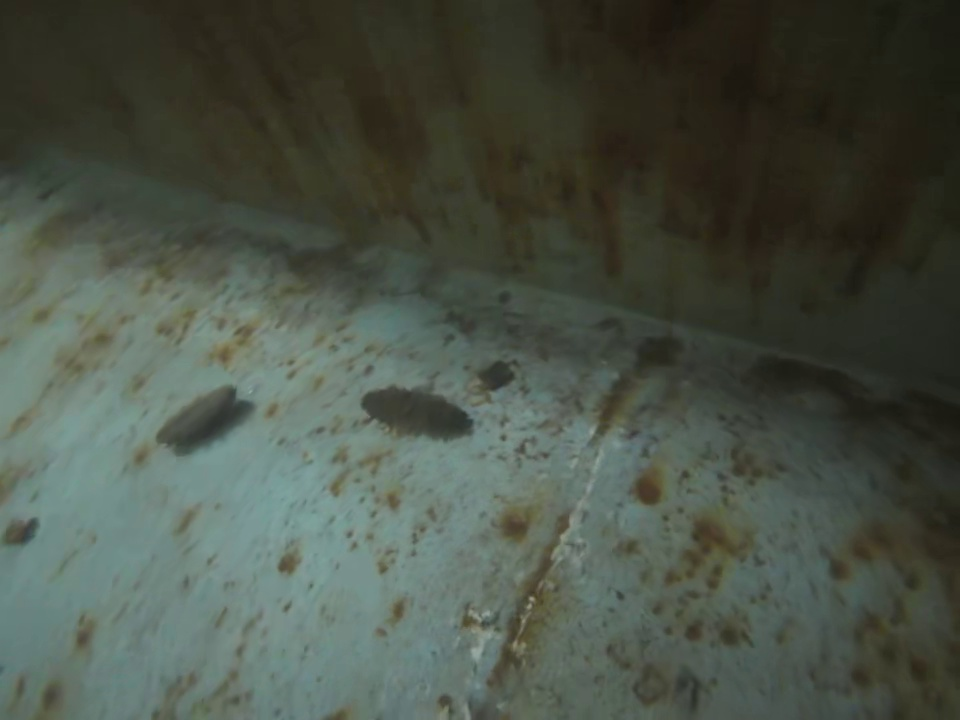seacucumber: (151, 380, 242, 460), (359, 383, 474, 445)
